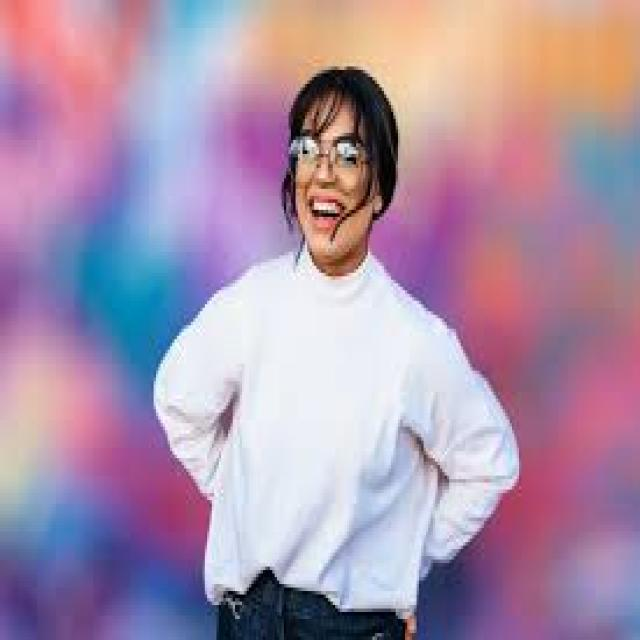Edited images: (142, 56, 528, 640)
